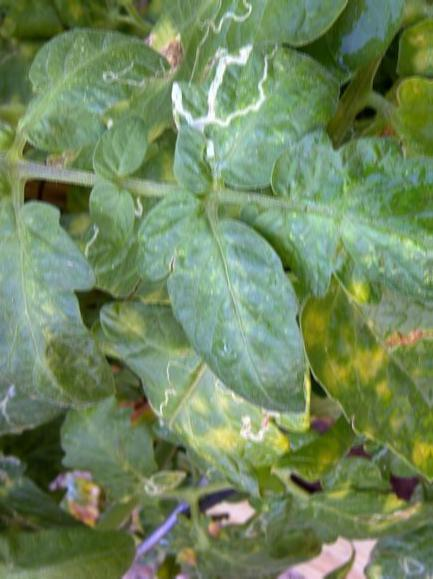Tomato mold leaf: (149, 208, 324, 421), (0, 180, 138, 438), (253, 127, 433, 313), (305, 263, 433, 515), (14, 19, 182, 161)
